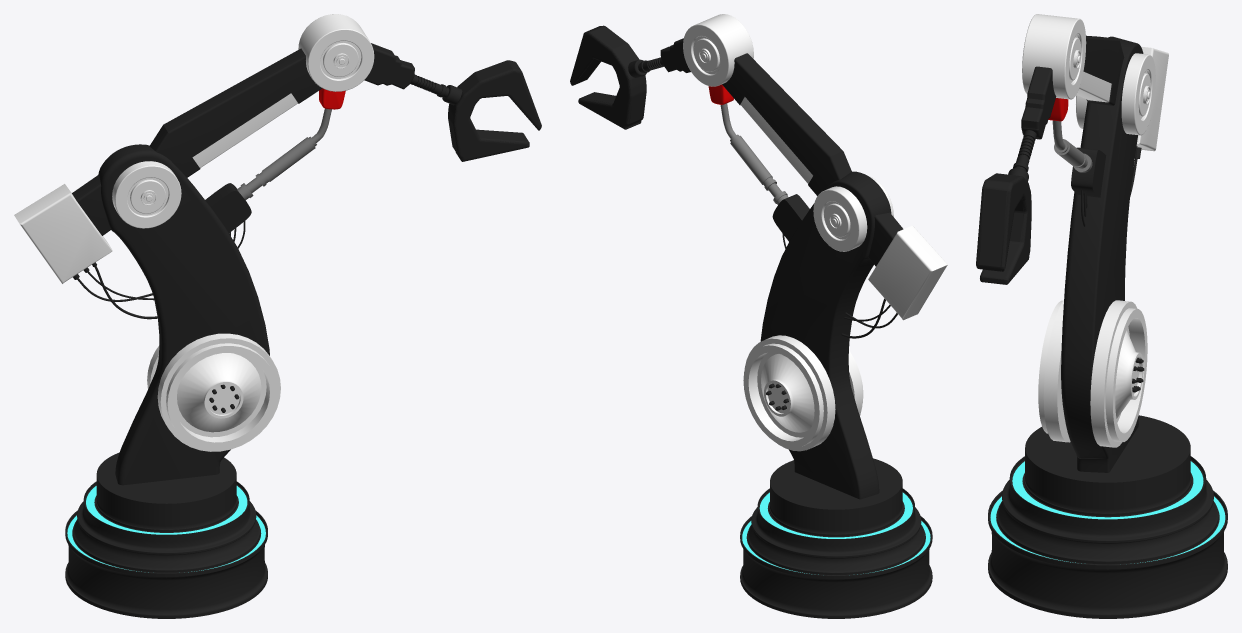
Rendered from Robot Hand.fbx.
3 renders of one model, left to right at view 1: azimuth 30°, elevation 25°; view 2: azimuth 150°, elevation 25°; view 3: azimuth 270°, elevation 25°, orthographic. The views are drawn at different scales.
Visible parts, largest first — view 1: Base_2, Stand_2, SCEW_2, Stand_1, Extrude_3, Extrude_8, Cylinder_1, Cylinder, Extrude_7, Extrude_2, Sweep_3, Extrude (+1 smaller); view 2: Base_2, Stand_2, SCEW_2, Stand_1, Extrude_8, Extrude_3, Cylinder_1, Cylinder, Sweep_3, Extrude_2, Extrude, Extrude_7; view 3: Base_2, Stand_2, SCEW_2, Extrude_8, Cylinder_1, Cylinder, Stand_1, Extrude_7, Extrude_3, Extrude_2, Sweep_7, Sweep_3.
Boxes of the visible parts, x1,y1,x2,y2 form: Base_2: (65, 452, 267, 618); Stand_2: (98, 144, 269, 485); SCEW_2: (147, 333, 280, 451); Stand_1: (149, 48, 322, 177); Extrude_3: (14, 184, 112, 283); Extrude_8: (448, 60, 541, 161); Cylinder_1: (298, 14, 374, 91); Cylinder: (112, 161, 181, 228); Extrude_7: (364, 43, 414, 89); Extrude_2: (205, 183, 251, 232); Sweep_3: (237, 137, 315, 200); Extrude: (72, 174, 111, 235); Base_2: (740, 458, 932, 618); Stand_2: (760, 171, 891, 499); SCEW_2: (743, 335, 863, 451); Stand_1: (722, 53, 851, 195); Extrude_8: (570, 25, 646, 129); Extrude_3: (868, 225, 947, 320); Cylinder_1: (683, 14, 753, 86); Cylinder: (813, 176, 893, 251); Sweep_3: (730, 135, 788, 204); Extrude_2: (772, 194, 809, 241); Extrude: (868, 212, 903, 266); Extrude_7: (660, 38, 690, 72); Base_2: (988, 415, 1227, 618); Stand_2: (1061, 36, 1143, 472); SCEW_2: (1038, 300, 1147, 447); Extrude_8: (976, 173, 1031, 284); Cylinder_1: (1022, 14, 1086, 99); Cylinder: (1076, 53, 1155, 135); Stand_1: (1076, 35, 1124, 105); Extrude_7: (1021, 66, 1056, 139); Extrude_3: (1136, 46, 1168, 151); Extrude_2: (1071, 147, 1106, 197); Sweep_7: (1008, 130, 1036, 181); Sweep_3: (1054, 139, 1092, 172).
Bounding box in the file's own units: 691 × 773 × 279.
